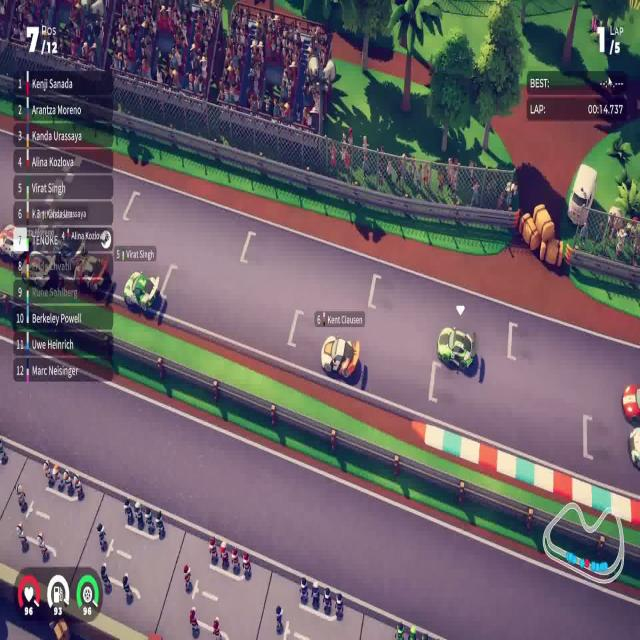car: (320, 334, 360, 381), (122, 270, 162, 315), (436, 326, 475, 372)
